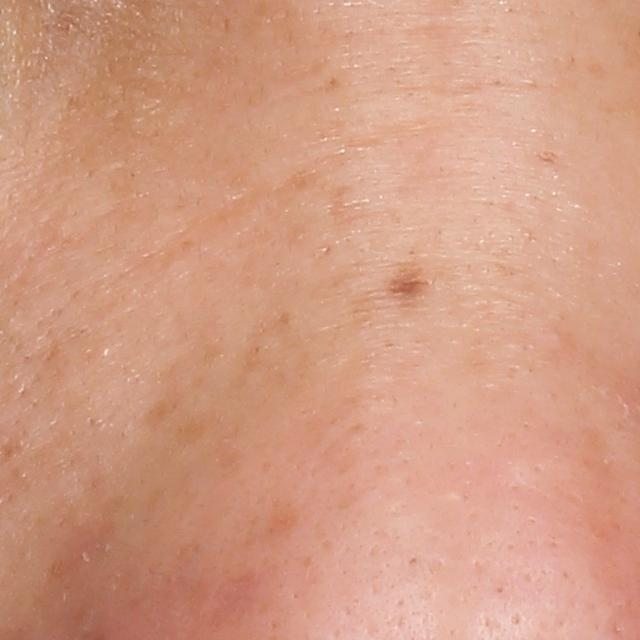melasma: (273, 164, 411, 233), (384, 254, 437, 315), (171, 408, 223, 454), (138, 393, 190, 437)
